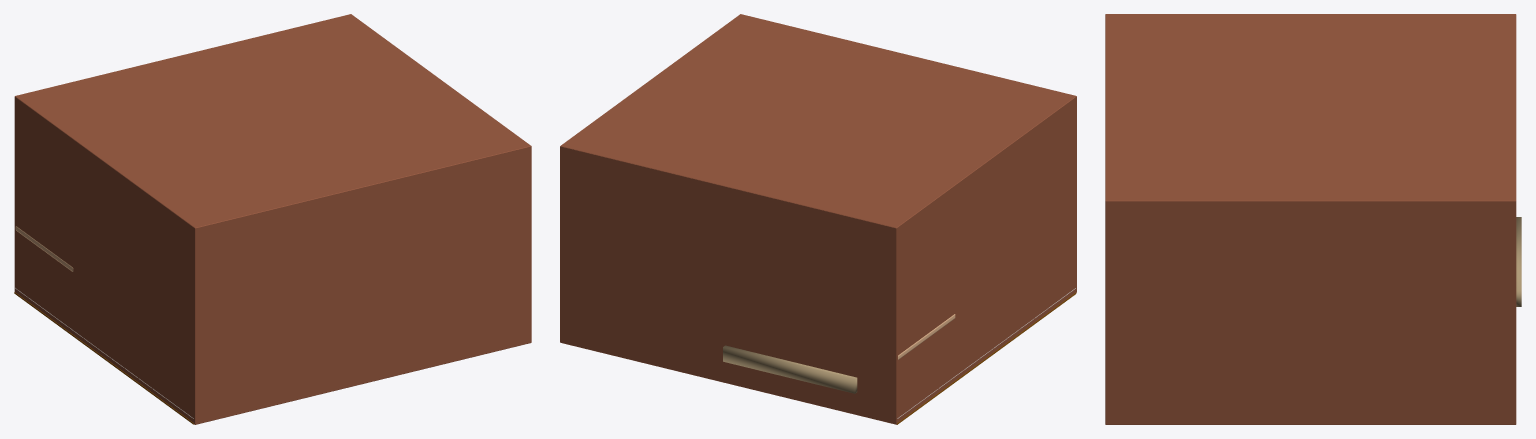
File: cubohueco.gltf
The picture shows the model from 3 angles, left to right: view 1: azimuth 30°, elevation 25°; view 2: azimuth 150°, elevation 25°; view 3: azimuth 270°, elevation 25°; orthographic projection. The views are drawn at different scales.
Visible parts, largest first — view 1: Cubo Base.001; view 2: Cubo Base.001, Cubo Base, colchon; view 3: Cubo Base, Cubo Base.001, colchon.
Part boxes in pixels (<box>): Cubo Base.001: <box>14,14,531,424</box>; Cubo Base.001: <box>560,14,1076,423</box>; Cubo Base: <box>560,146,896,424</box>; colchon: <box>723,345,857,393</box>; Cubo Base: <box>1105,201,1516,424</box>; Cubo Base.001: <box>1105,14,1516,424</box>; colchon: <box>1516,217,1521,306</box>.
Size of what is drawn, in the model's own units: 9.7 by 5.42 by 9.11.
